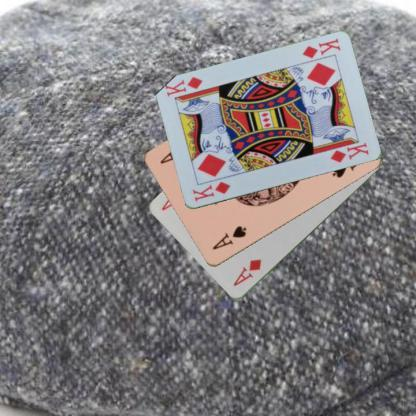Ad: (230, 256, 263, 288)
As: (209, 223, 248, 252)
Kd: (299, 36, 342, 60), (190, 179, 232, 203)
